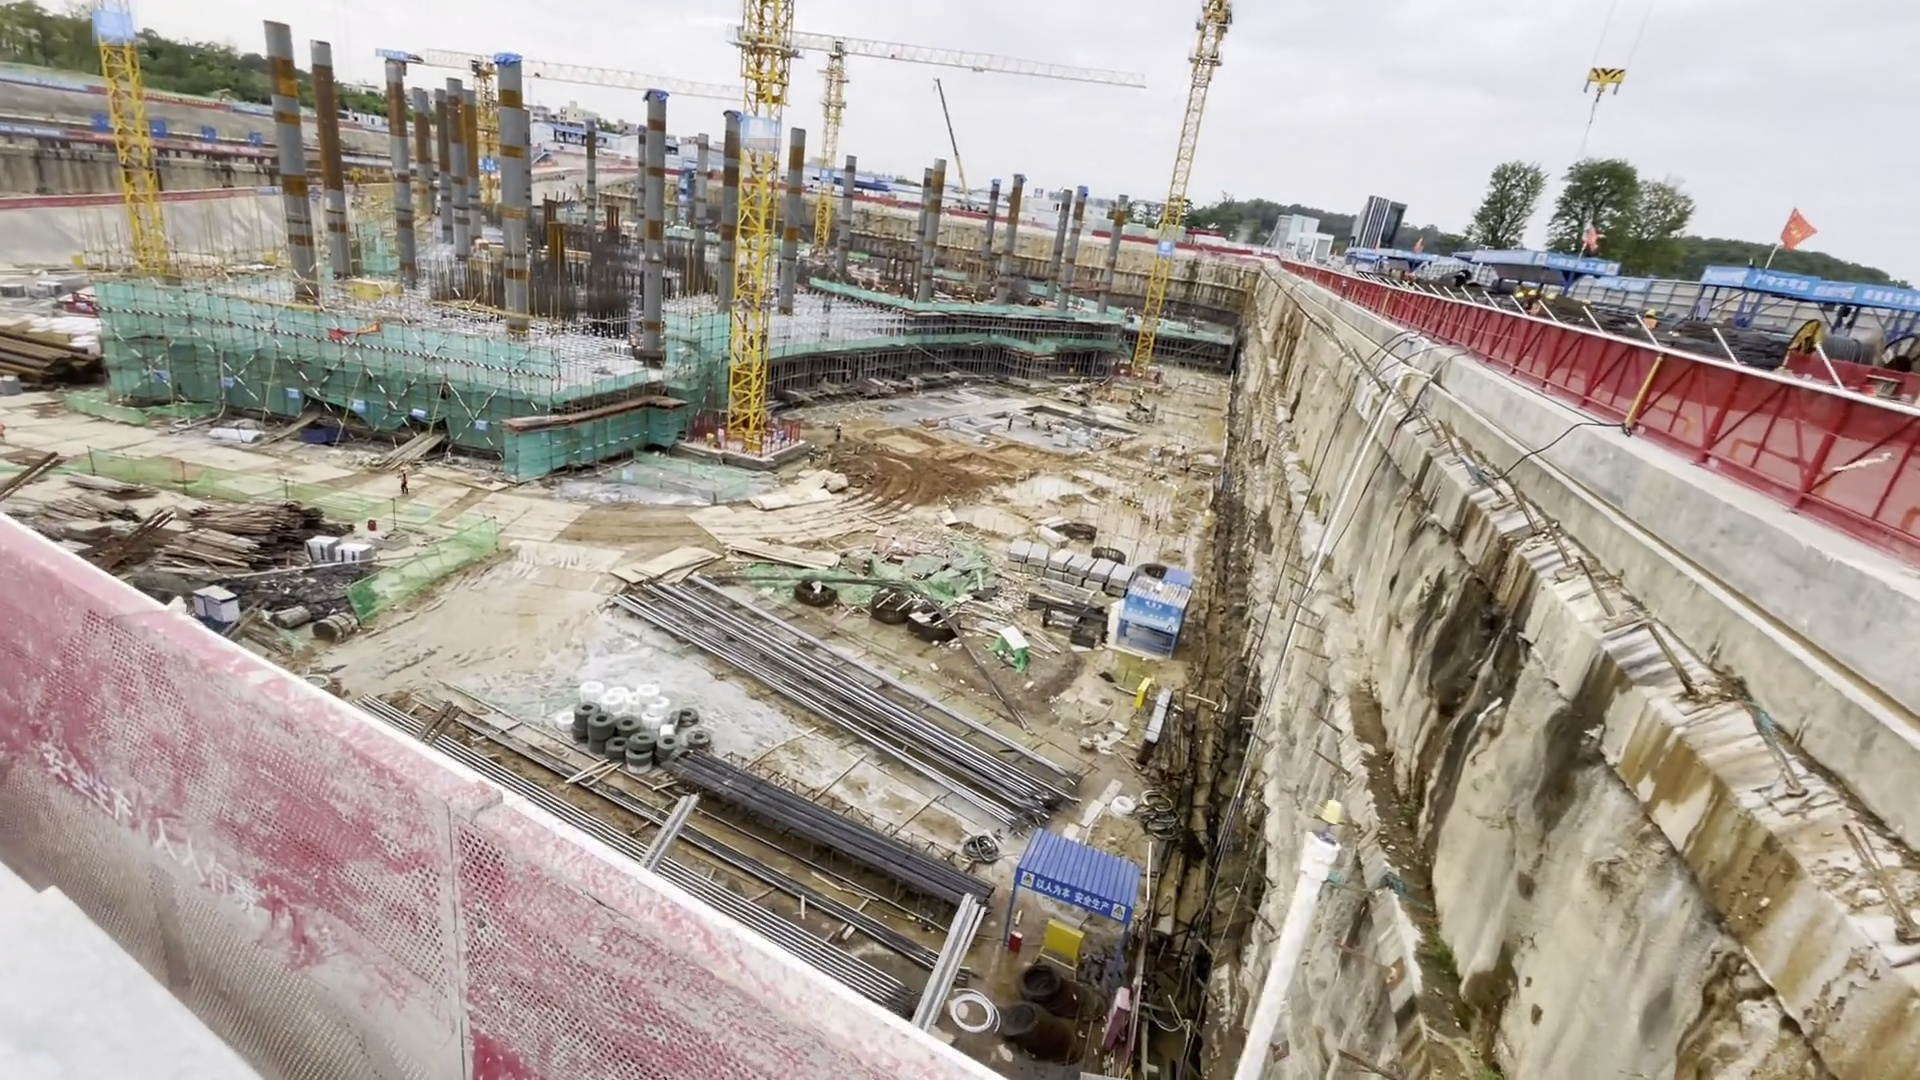board: (634, 525, 851, 585)
brick: (1003, 552, 1137, 604), (318, 533, 382, 577)
ebox: (745, 436, 762, 457)
fence: (35, 608, 822, 1080), (1470, 321, 1920, 519)
helmet: (1644, 308, 1657, 318), (1513, 290, 1525, 299), (1526, 288, 1536, 296), (400, 466, 407, 470), (809, 444, 815, 448), (836, 422, 841, 426)
hook: (1583, 61, 1627, 100)
hopper: (303, 426, 347, 443)
person: (1640, 308, 1661, 332), (831, 421, 846, 449), (397, 465, 412, 495), (807, 442, 818, 468), (1006, 413, 1014, 431)
rebar: (682, 771, 1018, 952)
slogan: (31, 732, 310, 948), (80, 109, 272, 145), (1017, 877, 1134, 933), (1749, 269, 1818, 304), (1867, 287, 1920, 313)
vest: (1642, 318, 1659, 331), (808, 448, 816, 459), (401, 474, 408, 485), (836, 428, 842, 437)
wood: (190, 488, 307, 576)
